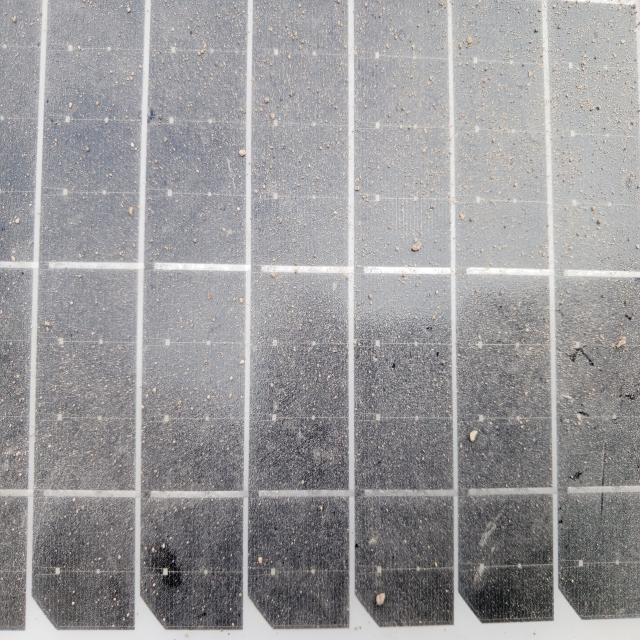Surface Contaminant: (14, 21, 624, 616)
